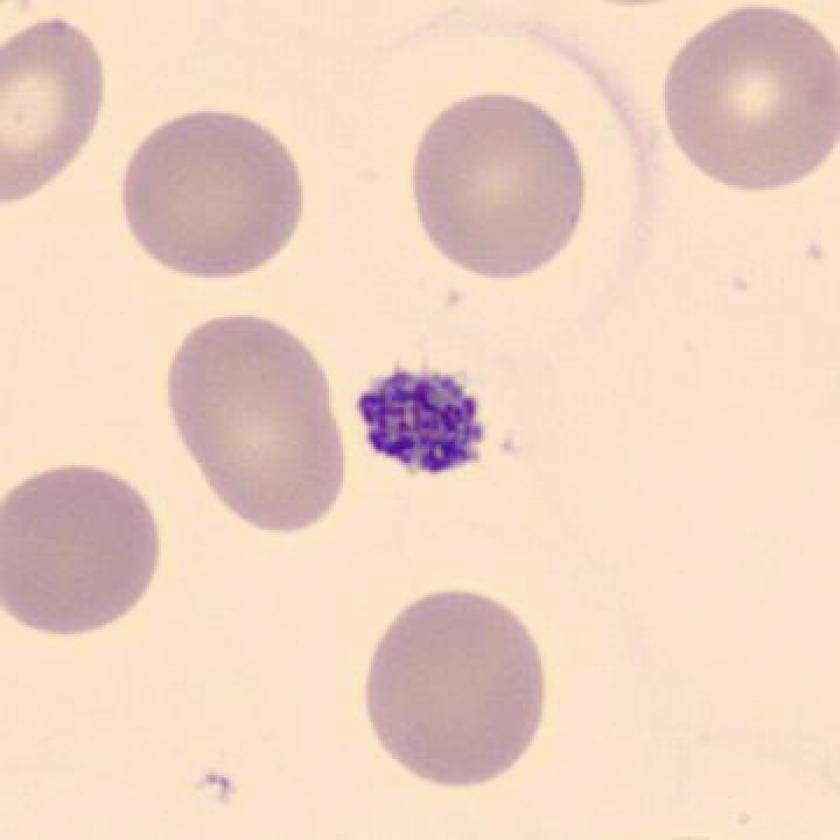platelets: (347, 355, 501, 487)
